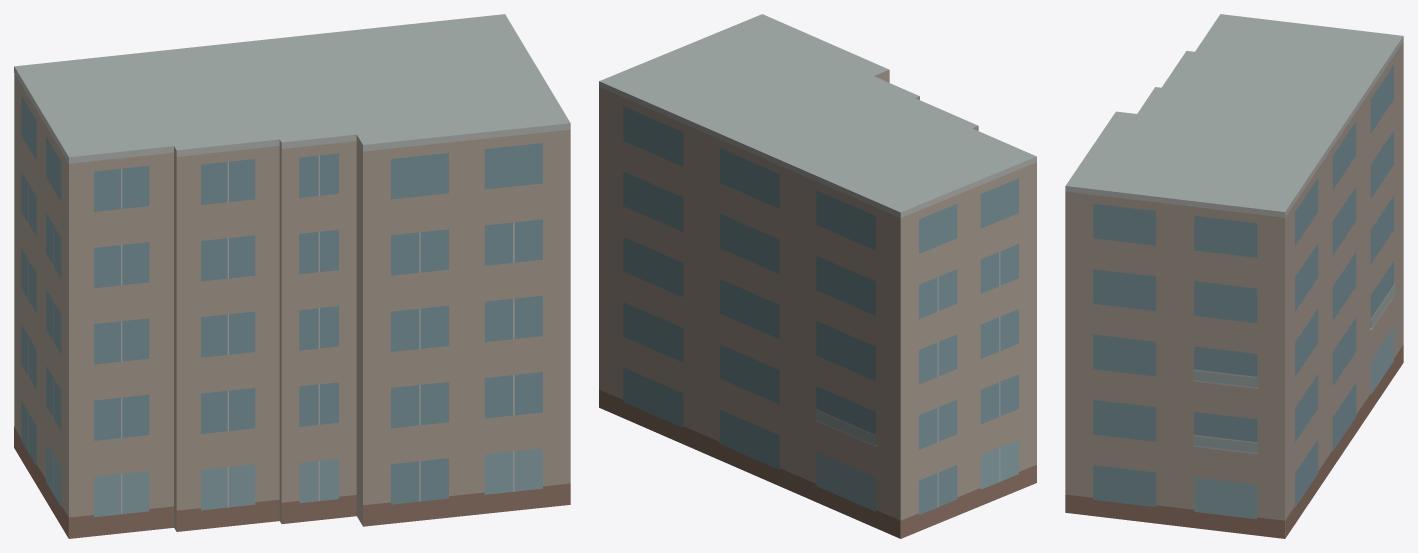
File: survey-upis-32869019.glb
The picture shows the model from 3 angles, left to right: view 1: azimuth 30°, elevation 25°; view 2: azimuth 150°, elevation 25°; view 3: azimuth 270°, elevation 25°; orthographic projection. The views are drawn at different scales.
Parts seen in each view (by area): view 1: survey-upis-32869019.tmp; view 2: survey-upis-32869019.tmp; view 3: survey-upis-32869019.tmp.
Part boxes in pixels (<box>): survey-upis-32869019.tmp: <box>14,14,570,538</box>; survey-upis-32869019.tmp: <box>599,14,1036,538</box>; survey-upis-32869019.tmp: <box>1065,14,1403,538</box>.
Size of the model in its own units: 18.47 by 14.2 by 13.32.
